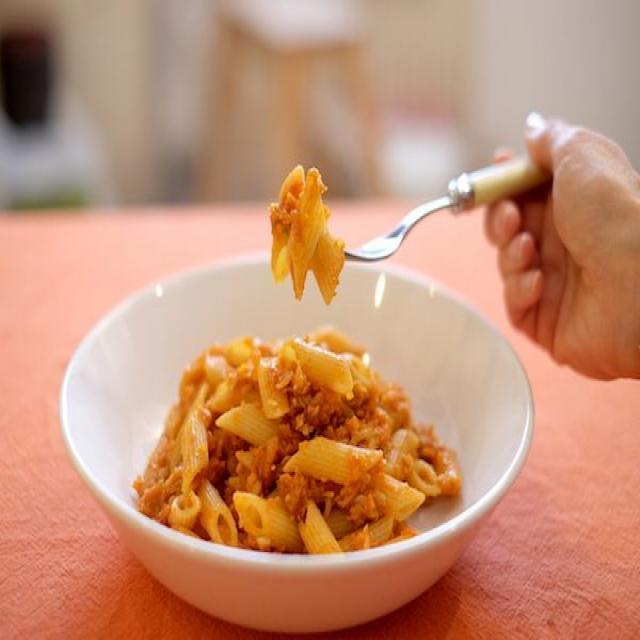Pasta al ragu: (144, 264, 474, 598)
